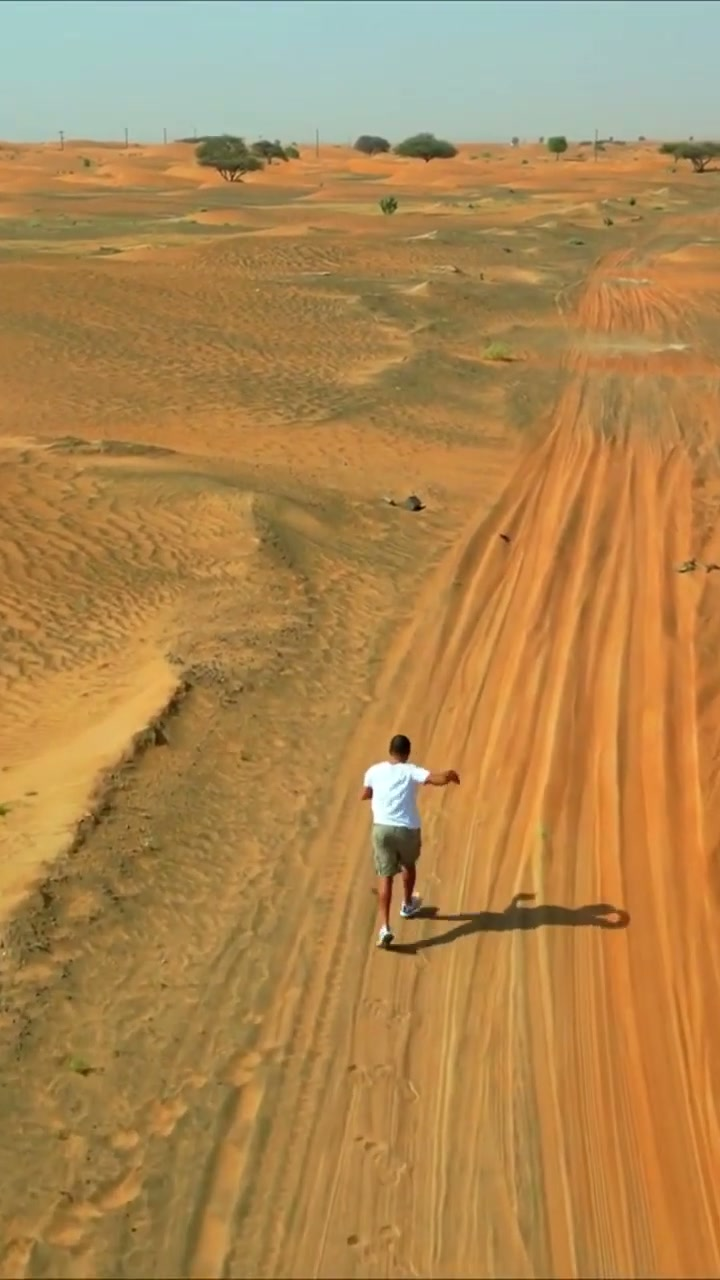human: (361, 734, 459, 947)
vehicle_track: (488, 331, 719, 1262)
